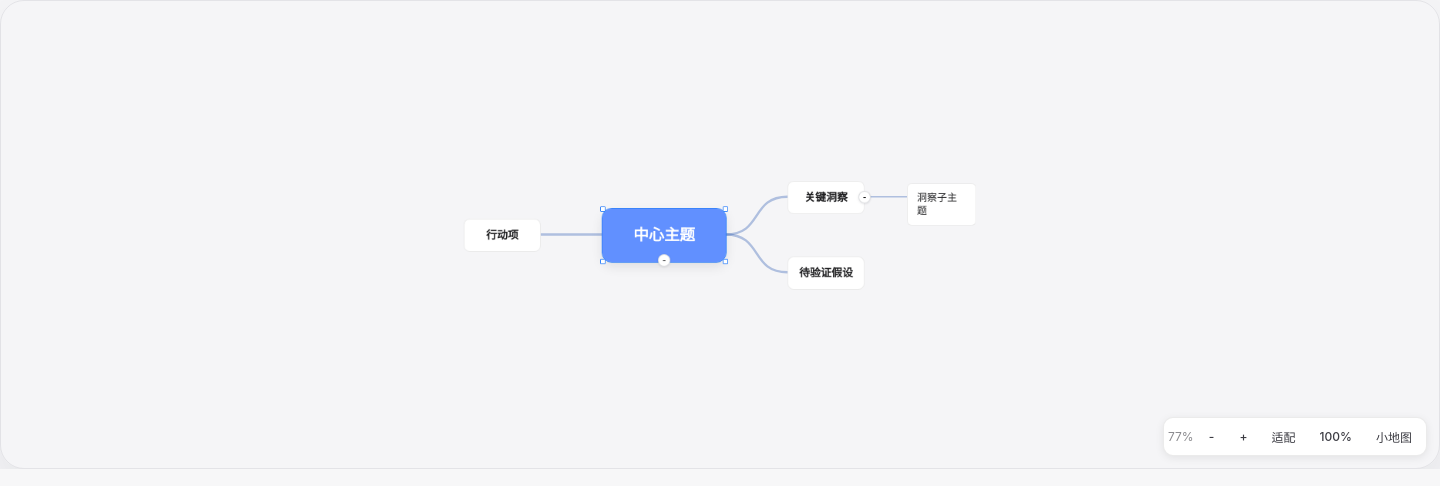
Test case: opens a node context menu on right-click and deletes via the menu
Right-click the button "关键洞察" at (826, 197), box [788,181,865,214]
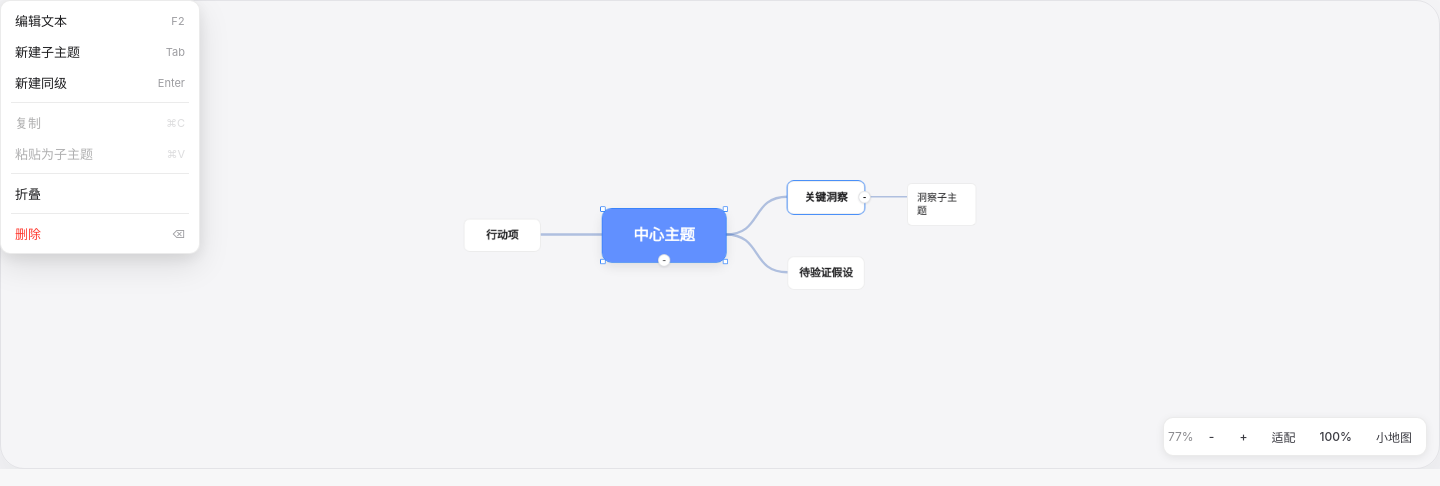
Expected: the menu item "编辑文本 F2" is shown, [5,5,195,36]
Expected: the menu item "新建子主题 Tab" is shown, [5,36,195,67]
Expected: the menu item "删除 ⌫" is shown
// 点击删除触发 deleteTopics
Click the menu item "删除 ⌫" at (100, 234), box [5,218,195,249]
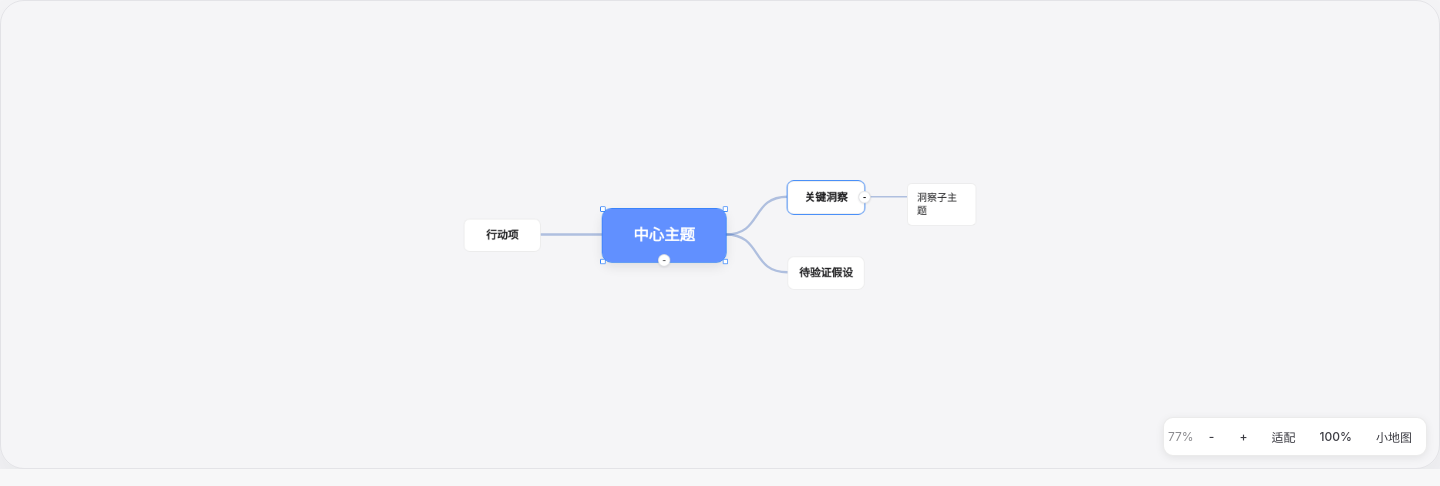
Expected: the menu is gone
